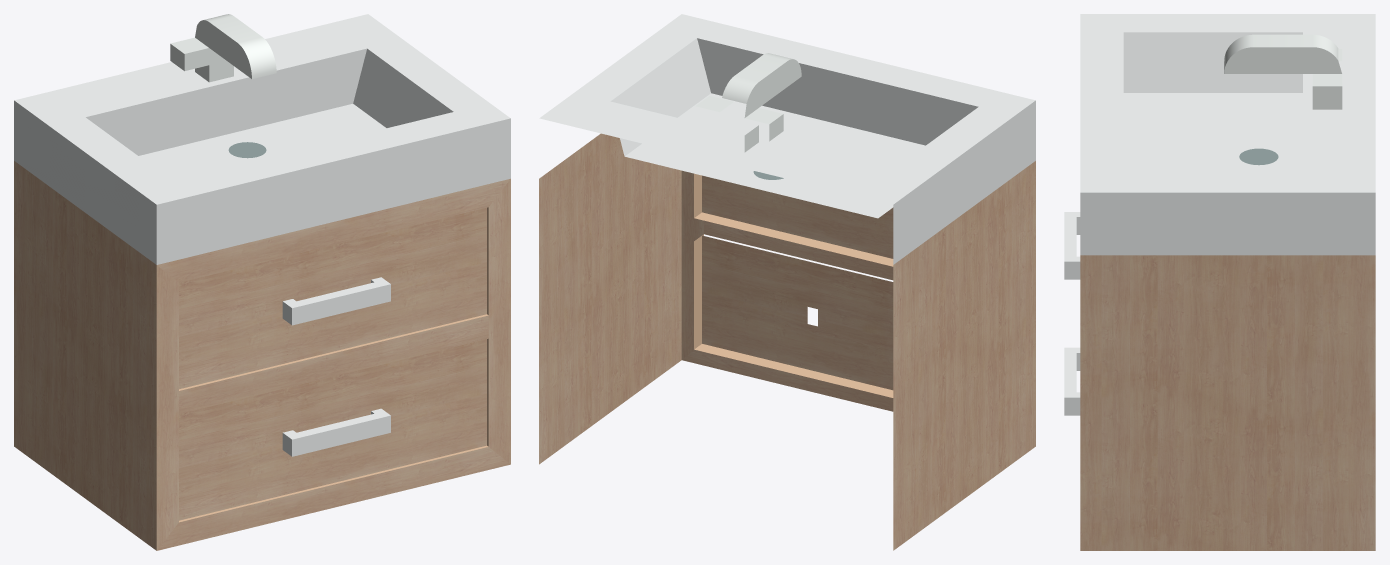
The model's file is lavandino-texture.glb.
The picture shows the model from 3 angles, left to right: view 1: azimuth 30°, elevation 25°; view 2: azimuth 150°, elevation 25°; view 3: azimuth 270°, elevation 25°; orthographic projection. The views are drawn at different scales.
Visible parts, largest first — view 1: bathroomCabinetDrawer(Clone); view 2: bathroomCabinetDrawer(Clone); view 3: bathroomCabinetDrawer(Clone).
Boxes of the visible parts, bbox=[...] form: bathroomCabinetDrawer(Clone): bbox=[14, 14, 510, 550]; bathroomCabinetDrawer(Clone): bbox=[539, 14, 1035, 550]; bathroomCabinetDrawer(Clone): bbox=[1064, 14, 1375, 550].
Size of the model in its own units: 0.43 by 0.4718 by 0.3163.
5 materials, 1 textured.
